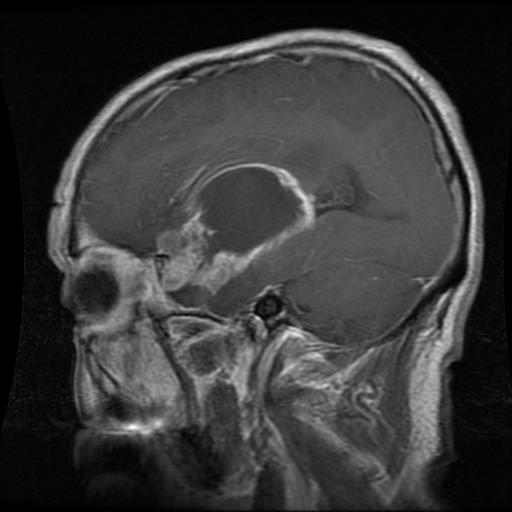Gliomia_tumour: (152, 163, 315, 294)
